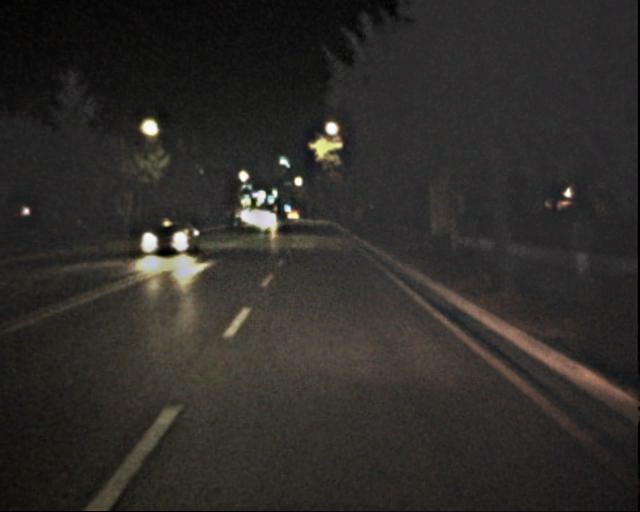person: (570, 202, 599, 288)
